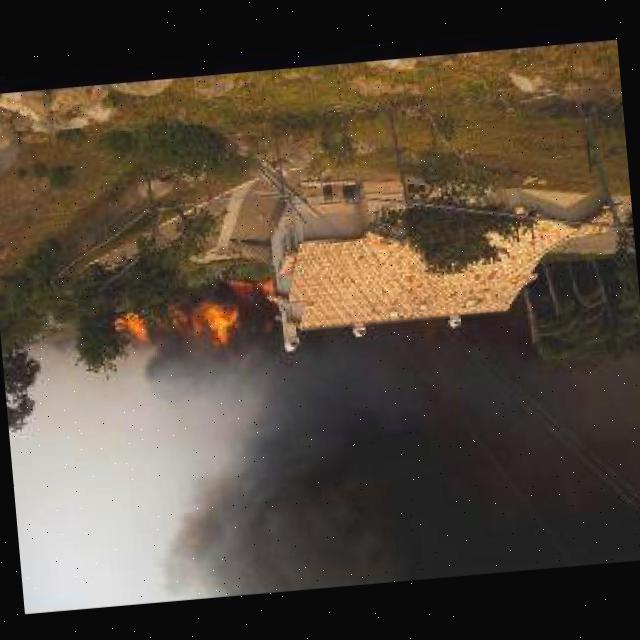fire: (107, 281, 243, 364), (148, 307, 202, 381)
